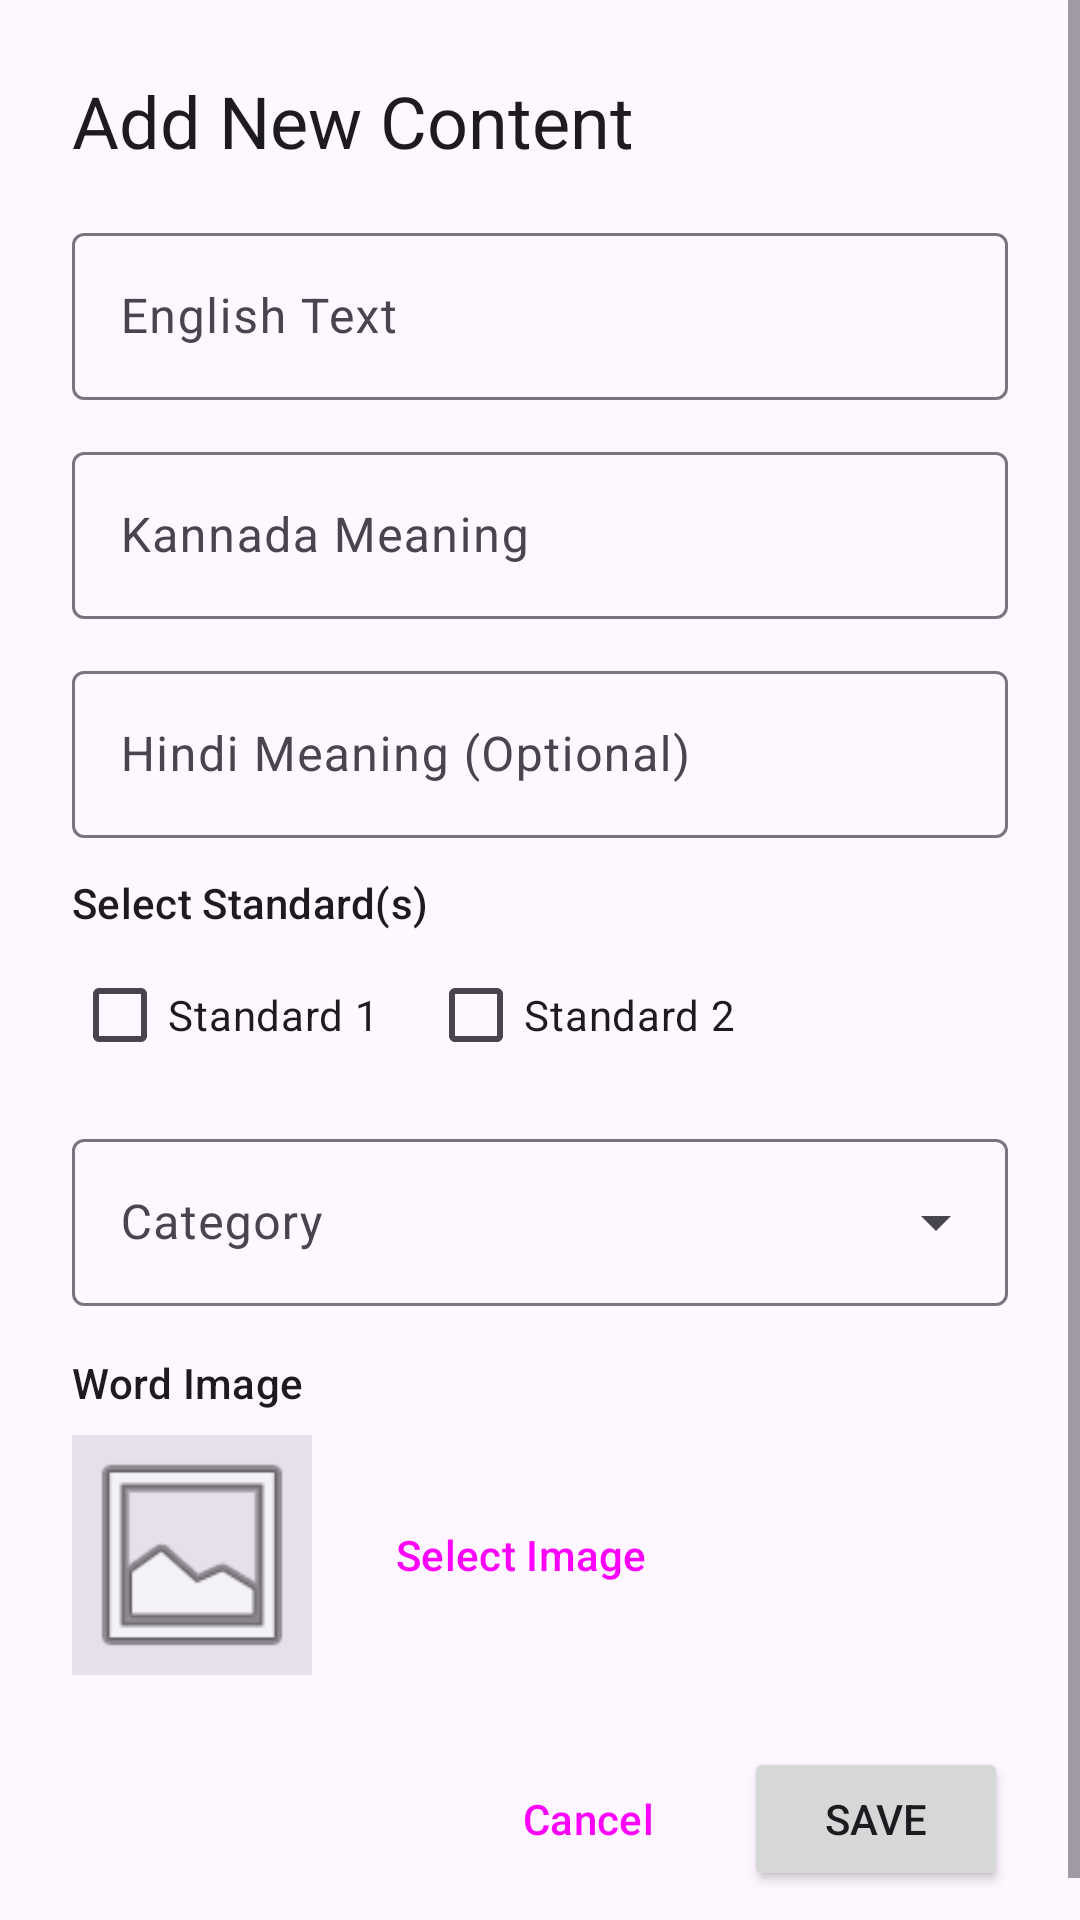

Point at icon controls on the screen. Image size 1080x1920, points as (x,y).
gallery: (192,1555)
